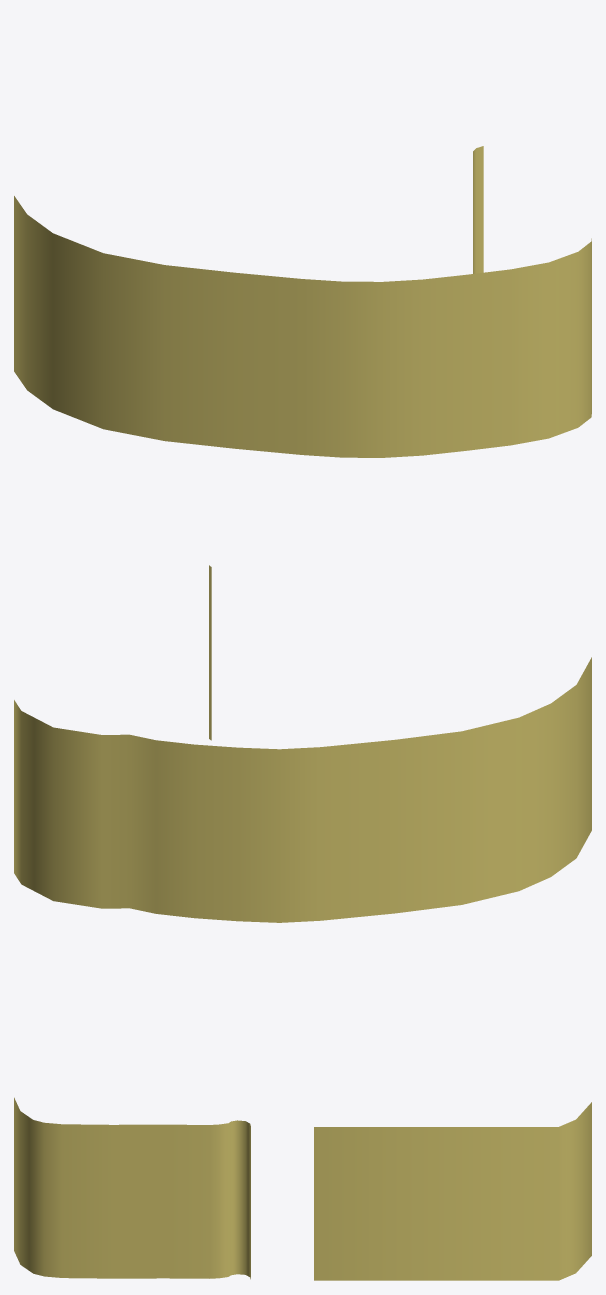
Rendered from white-matter-of-spinal-cord.glb.
3 views of the same model, one above another, from view 1: azimuth 30°, elevation 25°; view 2: azimuth 150°, elevation 25°; view 3: azimuth 270°, elevation 25° (orthographic). The views are drawn at different scales.
Visible parts, largest first — view 1: White matter of spinal cord; view 2: White matter of spinal cord; view 3: White matter of spinal cord.
Boxes of the visible parts, x1,y1,x2,y2 form: White matter of spinal cord: (14, 146, 591, 457); White matter of spinal cord: (14, 565, 591, 922); White matter of spinal cord: (14, 1097, 591, 1280).
Size of the model in its own units: 0.0123 by 0.005 by 0.017.
